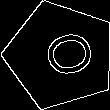O_W: (28, 27, 93, 83)
